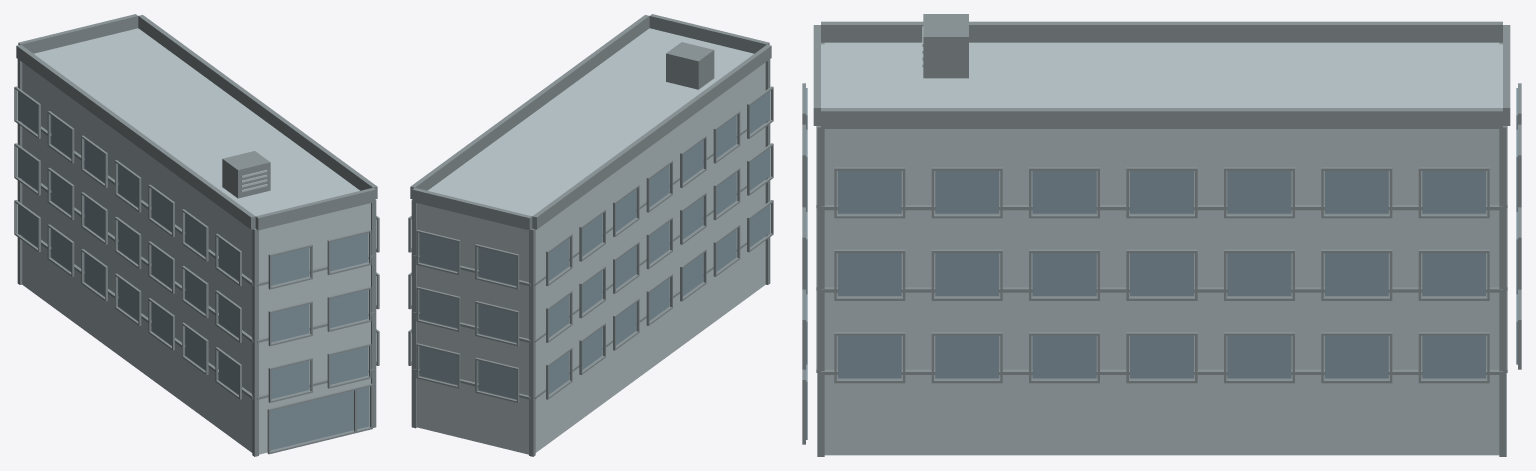
The model's file is lot_1x3_slab.glb.
3 views of the same model, side by side, from view 1: azimuth 30°, elevation 25°; view 2: azimuth 150°, elevation 25°; view 3: azimuth 270°, elevation 25° (orthographic). The views are drawn at different scales.
Parts seen in each view (by area): view 1: lot_1x3_slab; view 2: lot_1x3_slab; view 3: lot_1x3_slab.
Boxes of the visible parts, x1,y1,x2,y2 form: lot_1x3_slab: (14, 14, 379, 456); lot_1x3_slab: (408, 14, 773, 456); lot_1x3_slab: (802, 14, 1521, 456).
Bounding box in the file's own units: 7.74 × 13.5 × 23.74.
